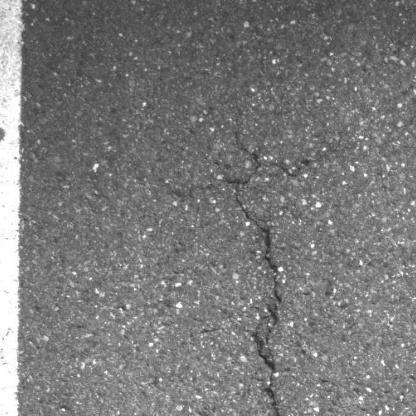Cracks: (224, 130, 302, 416)
